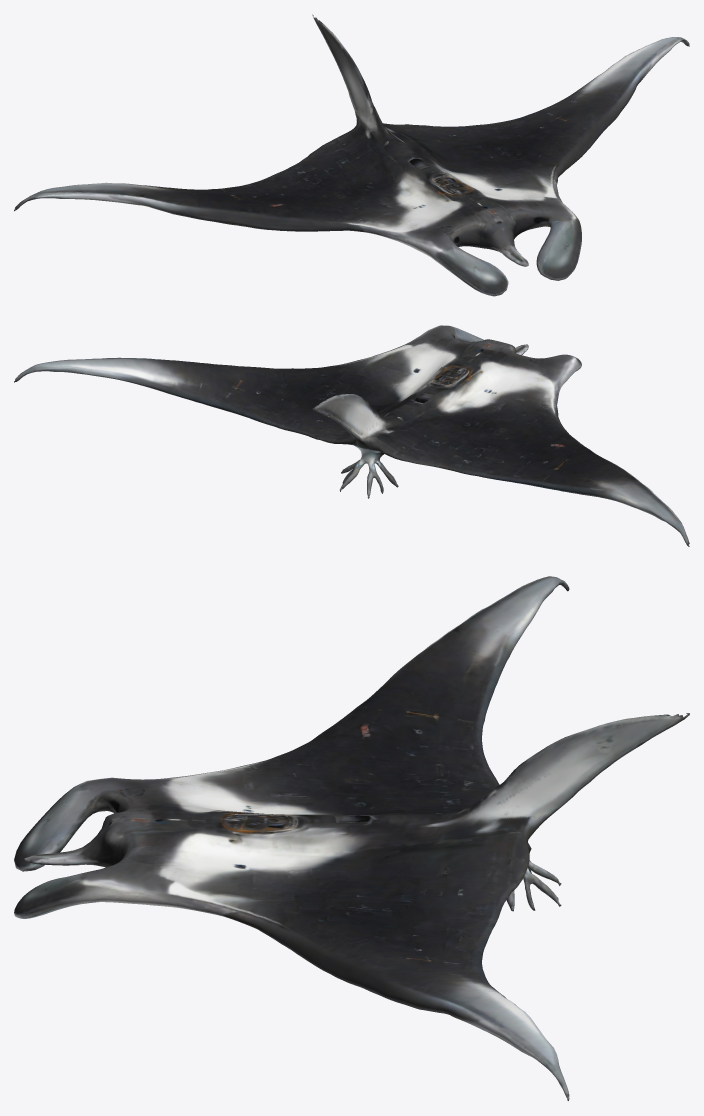
Rendered from manta-ray.glb.
3 views of the same model, one above another, from view 1: azimuth 30°, elevation 25°; view 2: azimuth 150°, elevation 25°; view 3: azimuth 270°, elevation 25° (orthographic). The views are drawn at different scales.
Visible parts, largest first — view 1: Object_4; view 2: Object_4; view 3: Object_4.
Boxes of the visible parts, bbox=[...] form: Object_4: bbox=[14, 14, 689, 296]; Object_4: bbox=[14, 325, 689, 546]; Object_4: bbox=[14, 576, 689, 1100].
Bounding box in the file's own units: 2.01 × 0.3379 × 1.13.
Materials: 1 (1 with a texture image).
